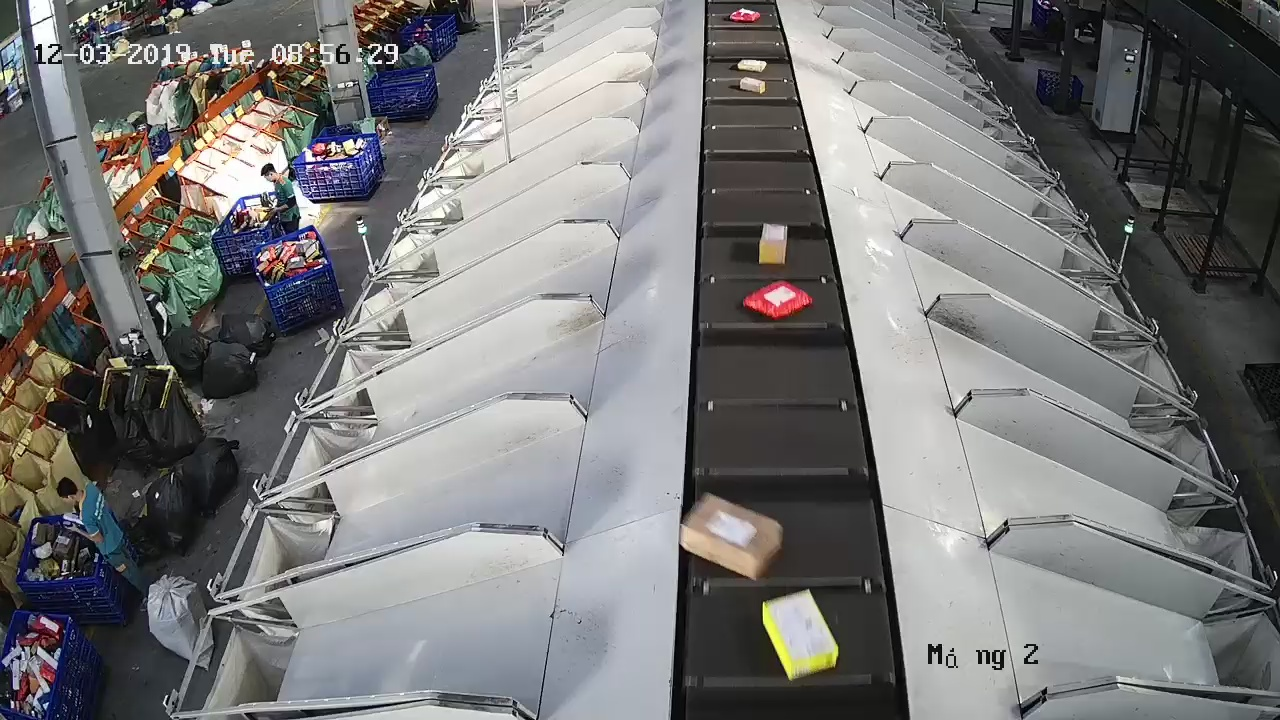parcel: (677, 489, 785, 581), (760, 587, 841, 682), (741, 278, 815, 322), (757, 221, 789, 266)
